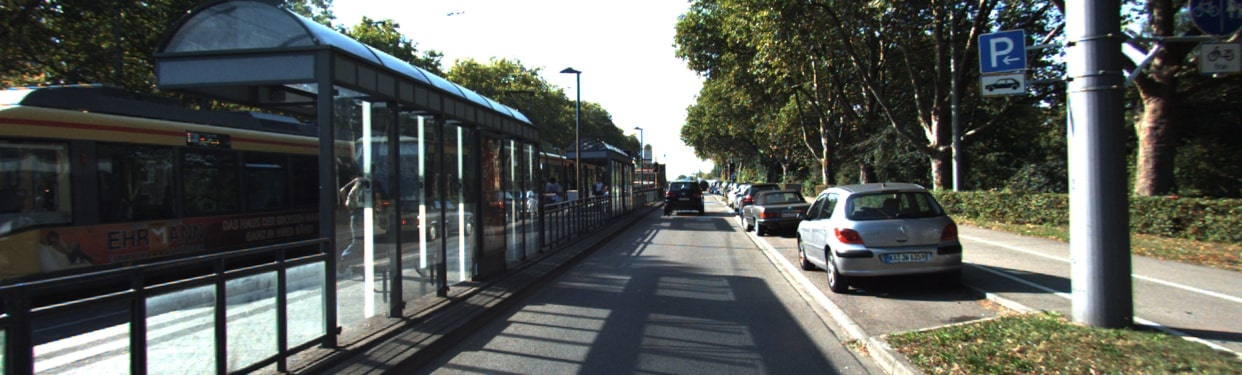Tram: (4, 95, 656, 331)
car: (800, 185, 969, 288), (741, 180, 801, 238), (664, 178, 704, 215)
